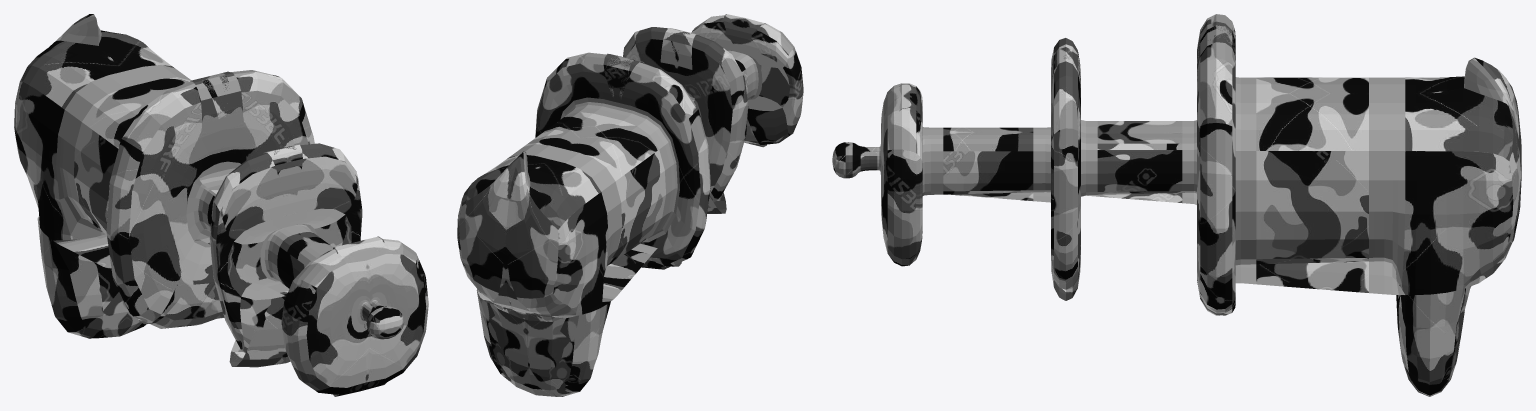
Rendered from Arma1.obj.
The picture shows the model from 3 angles, left to right: view 1: azimuth 30°, elevation 25°; view 2: azimuth 150°, elevation 25°; view 3: azimuth 270°, elevation 25°; orthographic projection. The views are drawn at different scales.
Visible parts, largest first — view 1: Cube_Cube.001; view 2: Cube_Cube.001; view 3: Cube_Cube.001.
Part boxes in pixels (bbox=[...]): Cube_Cube.001: bbox=[14, 14, 428, 396]; Cube_Cube.001: bbox=[457, 14, 803, 396]; Cube_Cube.001: bbox=[832, 14, 1521, 396].
Bounding box in the file's own units: 0.5688 × 0.8711 × 1.53.
